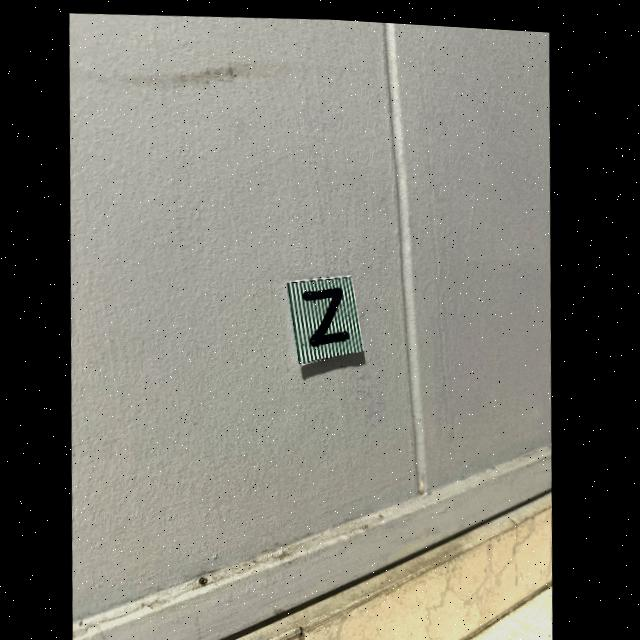Z: (304, 284, 351, 341)
